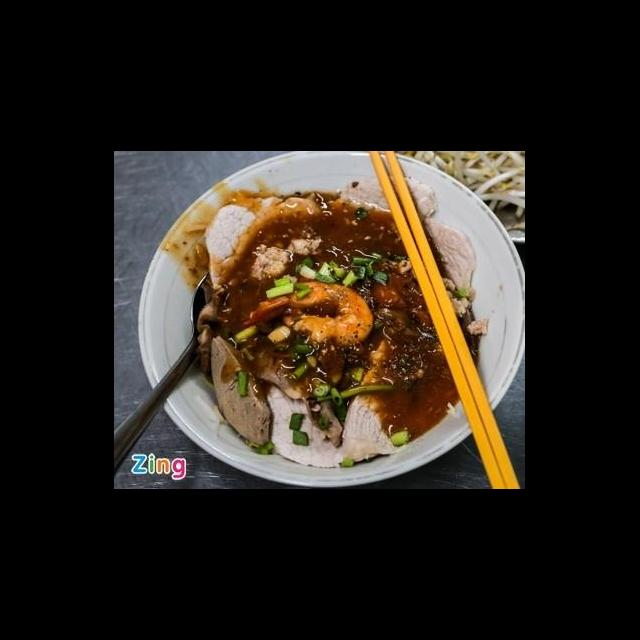gan: (203, 329, 280, 450)
thit bam: (244, 230, 324, 282), (433, 272, 492, 338)
thit heo: (336, 166, 484, 301), (260, 371, 404, 470), (202, 191, 326, 291)
tom: (246, 279, 380, 351)
